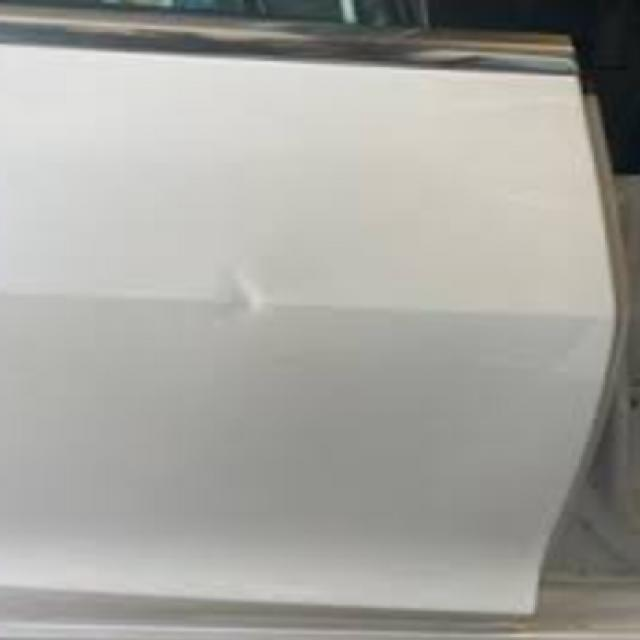dents: (204, 258, 300, 348)
